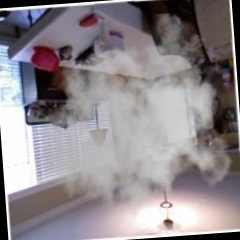smoke: (62, 40, 207, 177)
